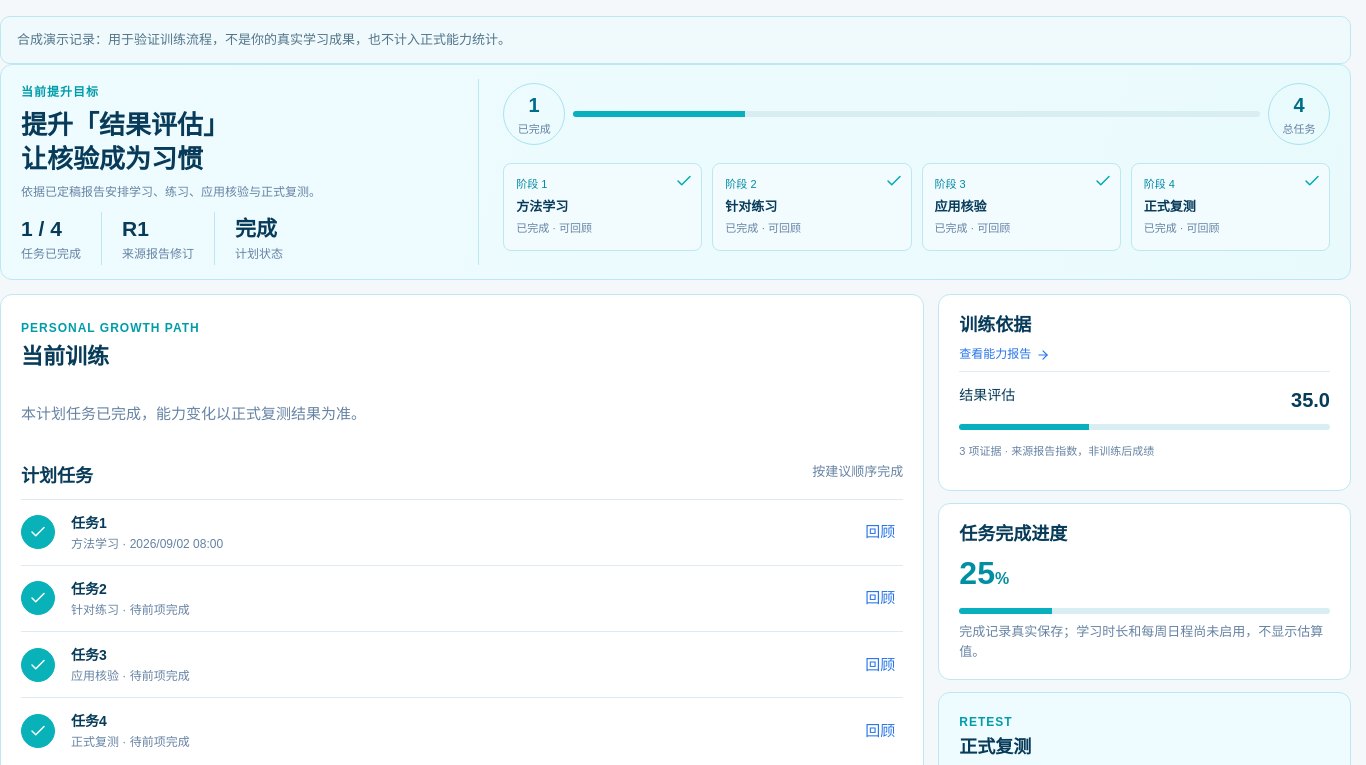
it: TrainingOverview actions › labels synthetic provenance and does not offer a next task on a complete plan
Click the button "回顾" in the row of "方法学习 · 2026/09/02 08:00" at coordinates (880, 532), box [857,512,903,552]
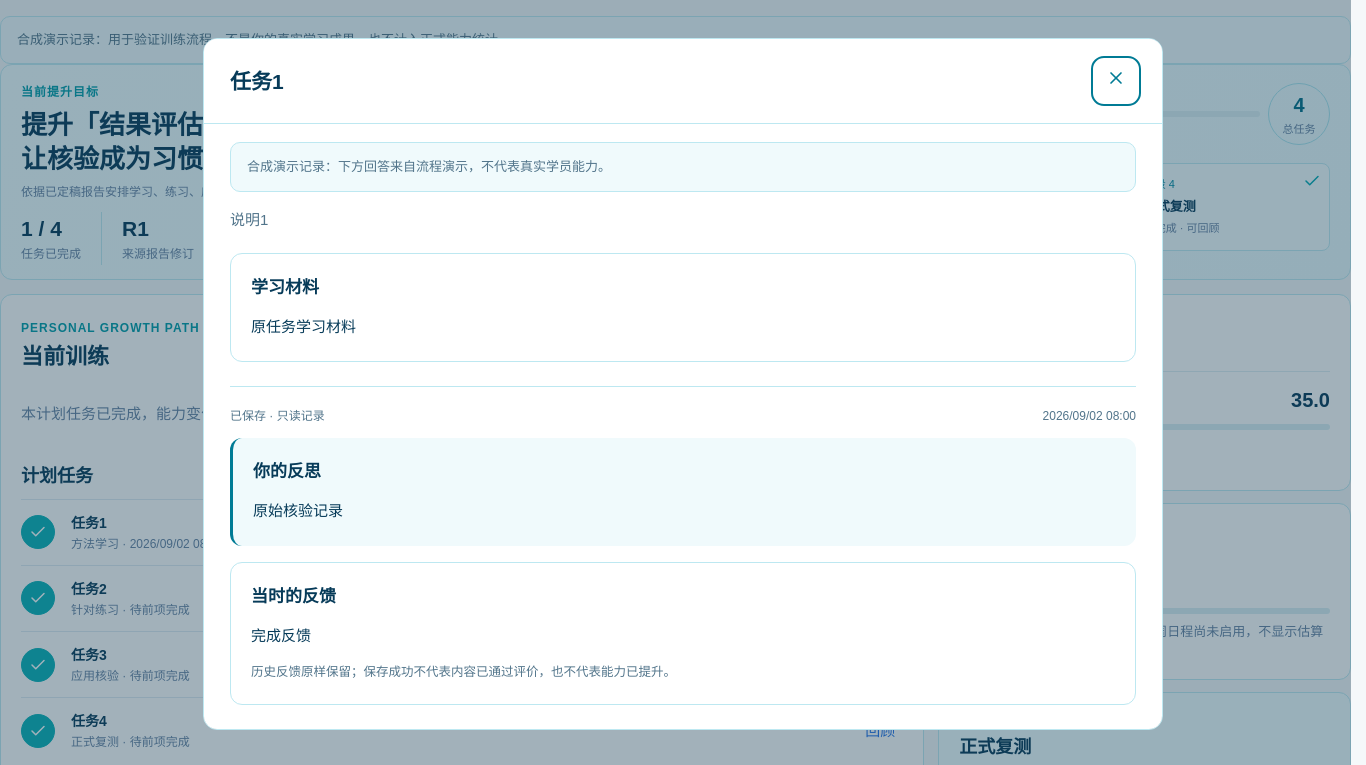
Expected: the dialog shows "合成演示记录", [247,159,611,174]
